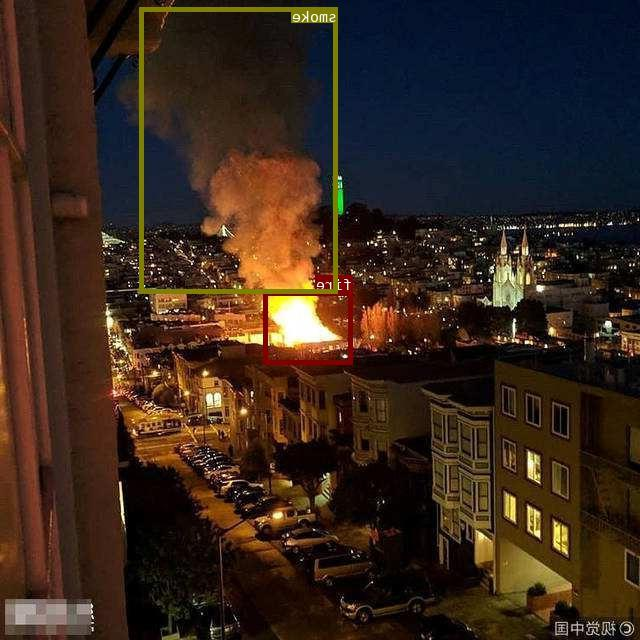fire: (264, 290, 353, 364)
smoke: (140, 7, 338, 292)
